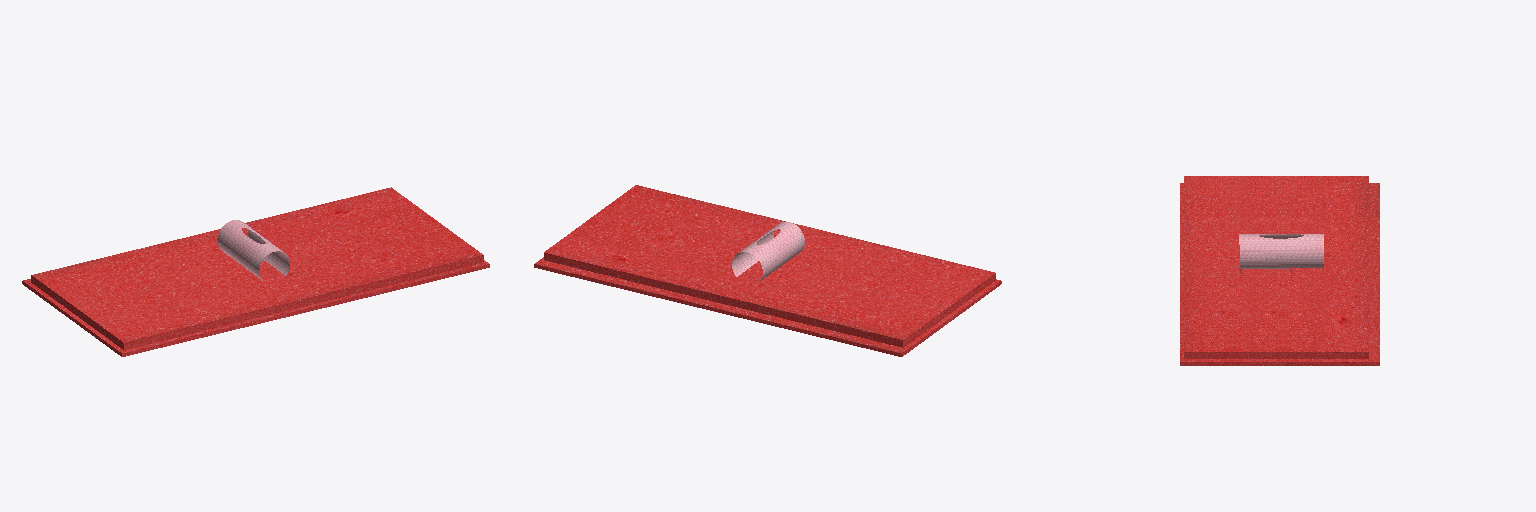
3 views of the same model, side by side, from view 1: azimuth 30°, elevation 25°; view 2: azimuth 150°, elevation 25°; view 3: azimuth 270°, elevation 25° (orthographic).
Visible parts, largest first — view 1: Box003, Box001, Cylinder02; view 2: Box003, Box001, Cylinder02; view 3: Box003, Box001, Cylinder02.
Part boxes in pixels (x1,y1,x2,y2): Box003: (31,187,483,349); Box001: (22,260,489,356); Cylinder02: (217,220,289,280); Box003: (544,185,995,347); Box001: (534,257,1001,356); Cylinder02: (732,222,804,280); Box003: (1184,176,1368,358); Box001: (1180,183,1379,365); Cylinder02: (1239,234,1323,268).
Bounding box in the file's own units: 15.11 × 1.57 × 7.11.
3 materials, 2 textured.